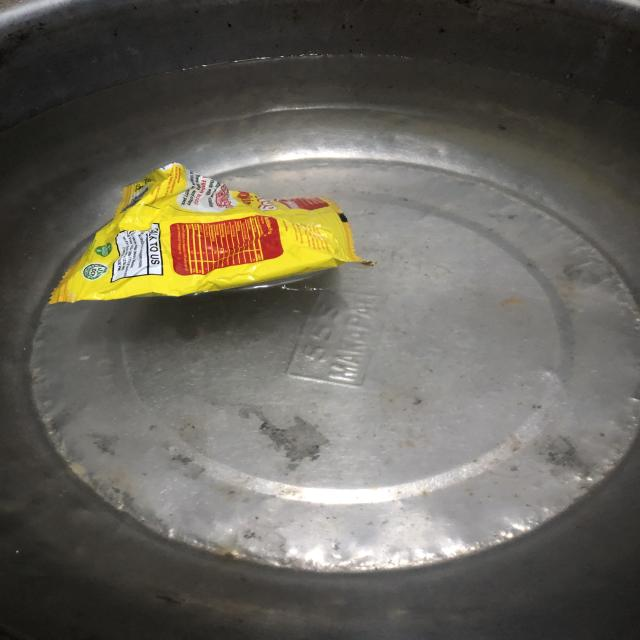Plastic Wrapper: (50, 163, 375, 304)
